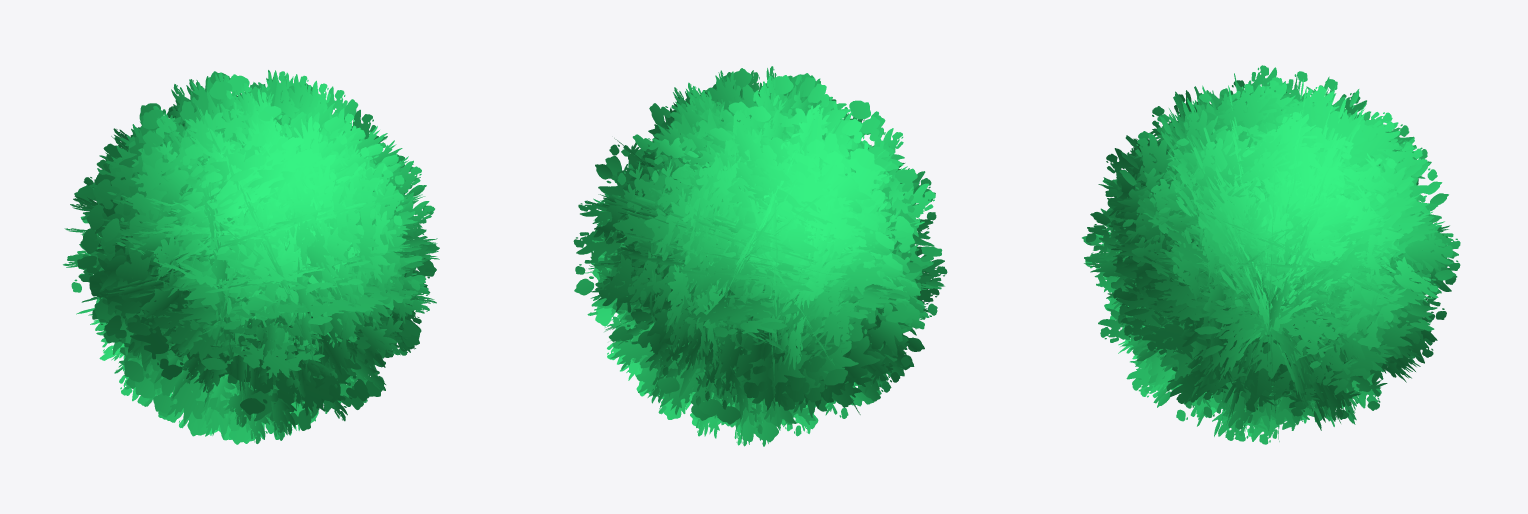
File: Bush02.fbx
3 views of the same model, side by side, from view 1: azimuth 30°, elevation 25°; view 2: azimuth 150°, elevation 25°; view 3: azimuth 270°, elevation 25° (orthographic).
Visible parts, largest first — view 1: Plane.083; view 2: Plane.083; view 3: Plane.083.
Boxes of the visible parts, box(x1,y1,x2,y2) form: Plane.083: box(63, 70, 439, 444); Plane.083: box(573, 66, 947, 446); Plane.083: box(1082, 65, 1460, 444).
Bounding box in the file's own units: 2324 × 2286 × 2322.
